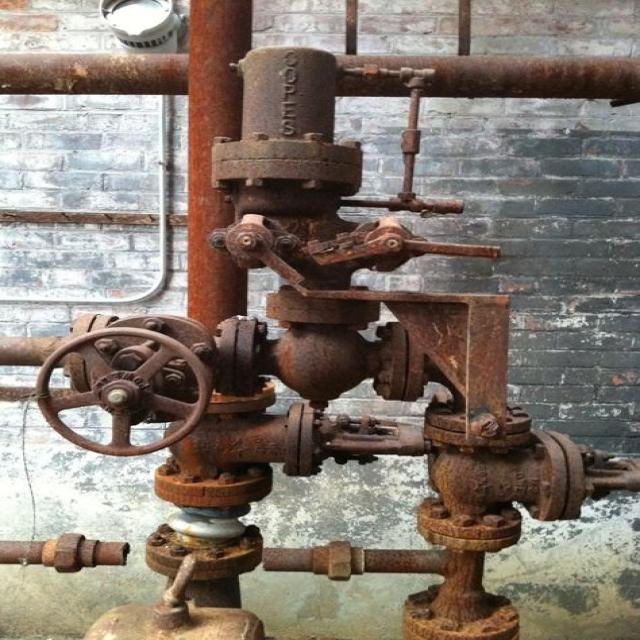Wheel Handle Valve Threaded: (39, 314, 265, 456)
